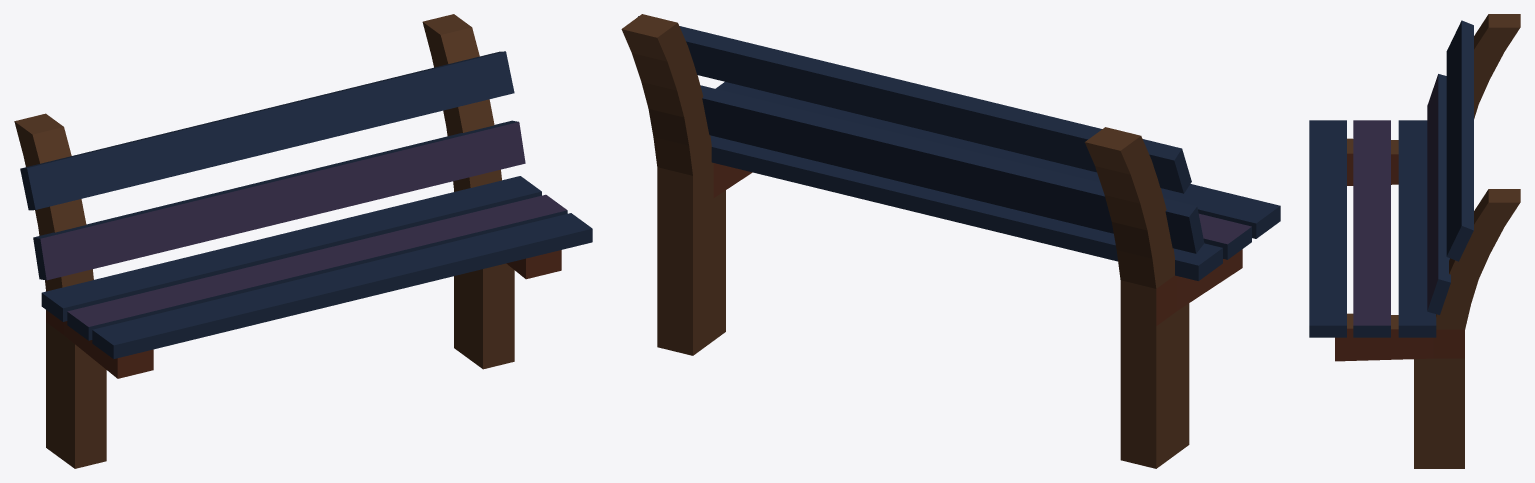
File: BANCO.fbx
3 views of the same model, side by side, from view 1: azimuth 30°, elevation 25°; view 2: azimuth 150°, elevation 25°; view 3: azimuth 270°, elevation 25° (orthographic). The views are drawn at different scales.
Parts seen in each view (by area): view 1: Cube; view 2: Cube; view 3: Cube.
Boxes of the visible parts, <box> form: Cube: <box>14,14,592,468</box>; Cube: <box>621,14,1280,468</box>; Cube: <box>1309,14,1520,468</box>.
Bounding box in the file's own units: 795 × 481 × 345.
